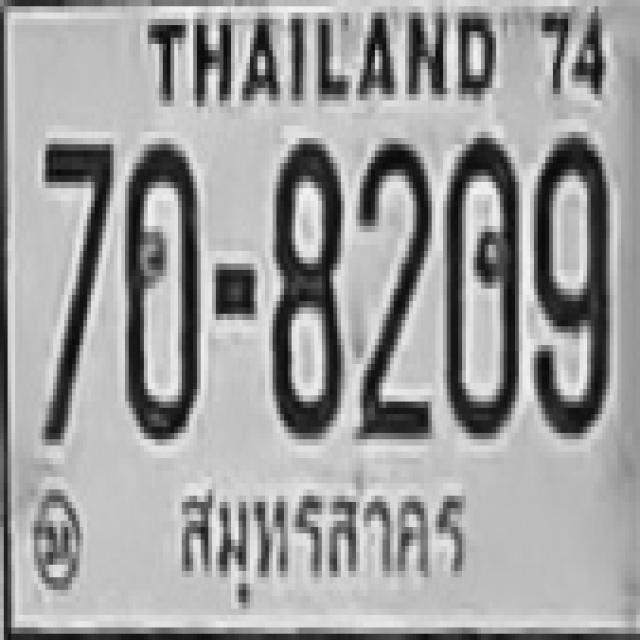0: (121, 141, 197, 436), (443, 132, 515, 433)
2: (354, 135, 430, 436)
7: (42, 138, 114, 439), (42, 138, 114, 377)
8: (269, 138, 337, 433)
9: (530, 132, 606, 433)
SamutSakhon: (163, 473, 474, 602)
